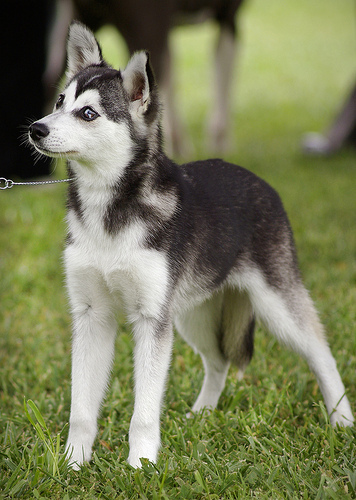dog: (23, 18, 354, 468)
